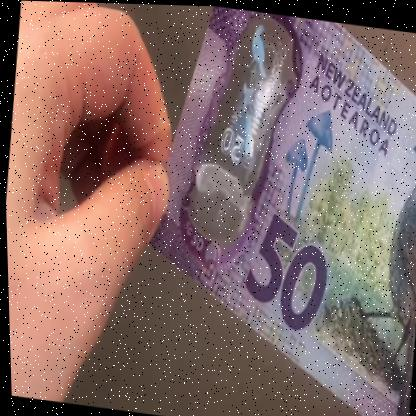50B: (190, 9, 294, 249)
